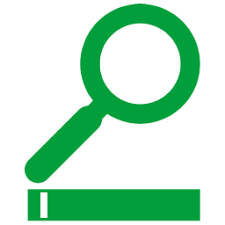searchIcon: (25, 2, 201, 185)
